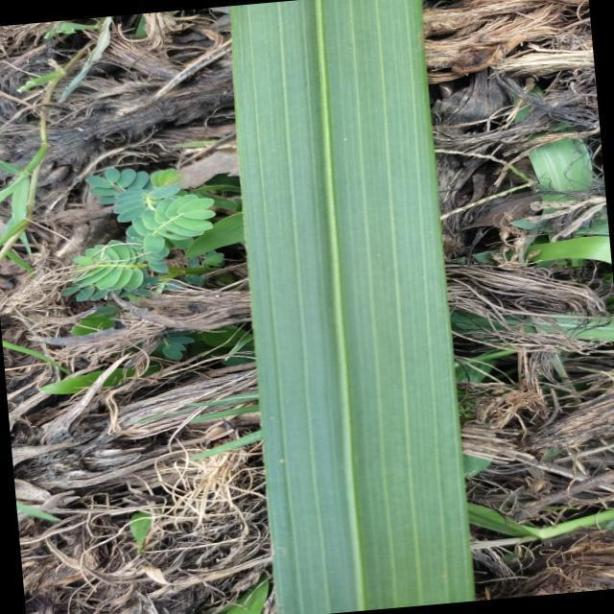Healthy: (232, 1, 472, 614)
